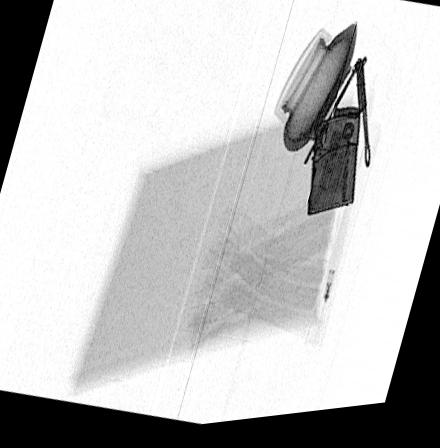Lighter: (305, 120, 360, 224)
